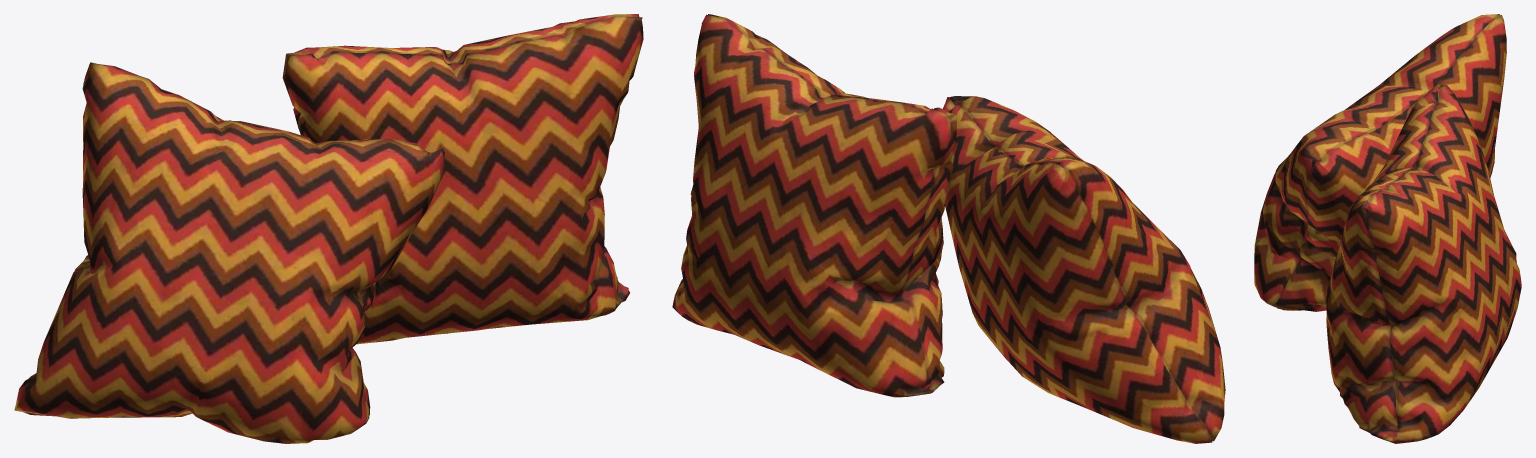
Rendered from throw_pillows_01.glb.
The picture shows the model from 3 angles, left to right: view 1: azimuth 30°, elevation 25°; view 2: azimuth 150°, elevation 25°; view 3: azimuth 270°, elevation 25°; orthographic projection. The views are drawn at different scales.
Visible parts, largest first — view 1: throw_pillows_01_pillow02; view 2: throw_pillows_01_pillow02; view 3: throw_pillows_01_pillow02.
Boxes of the visible parts, x1=… form: throw_pillows_01_pillow02: x1=14, y1=14, x2=643, y2=443; throw_pillows_01_pillow02: x1=672, y1=14, x2=1225, y2=443; throw_pillows_01_pillow02: x1=1254, y1=14, x2=1521, y2=443.
Bounding box in the file's own units: 0.9398 × 0.4499 × 0.4504.
Materials: 1 (1 with a texture image).
